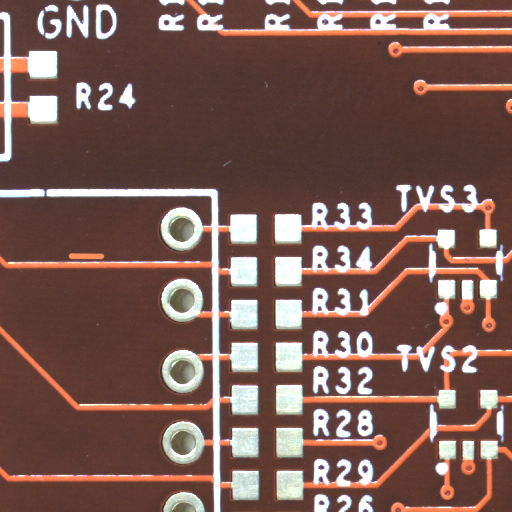Spurious_copper: (85, 256, 125, 265)
